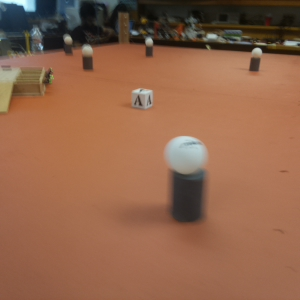obstacle: (154, 128, 213, 226), (242, 45, 267, 78), (79, 45, 95, 73), (140, 37, 160, 57), (61, 32, 73, 55)
side: (15, 67, 52, 97)
slope: (1, 79, 13, 110)
